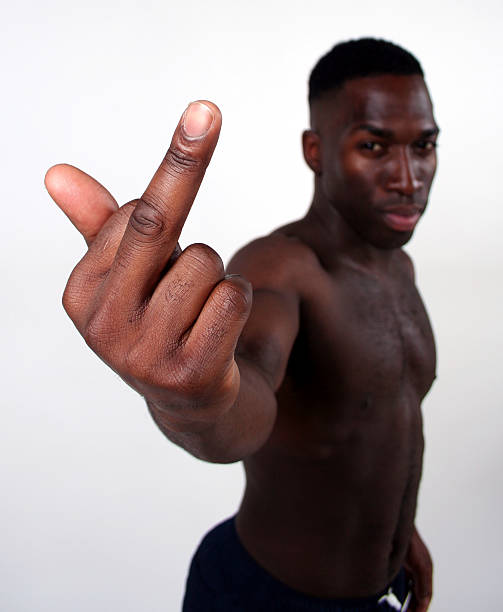insulting_gesture: (42, 100, 250, 414)
